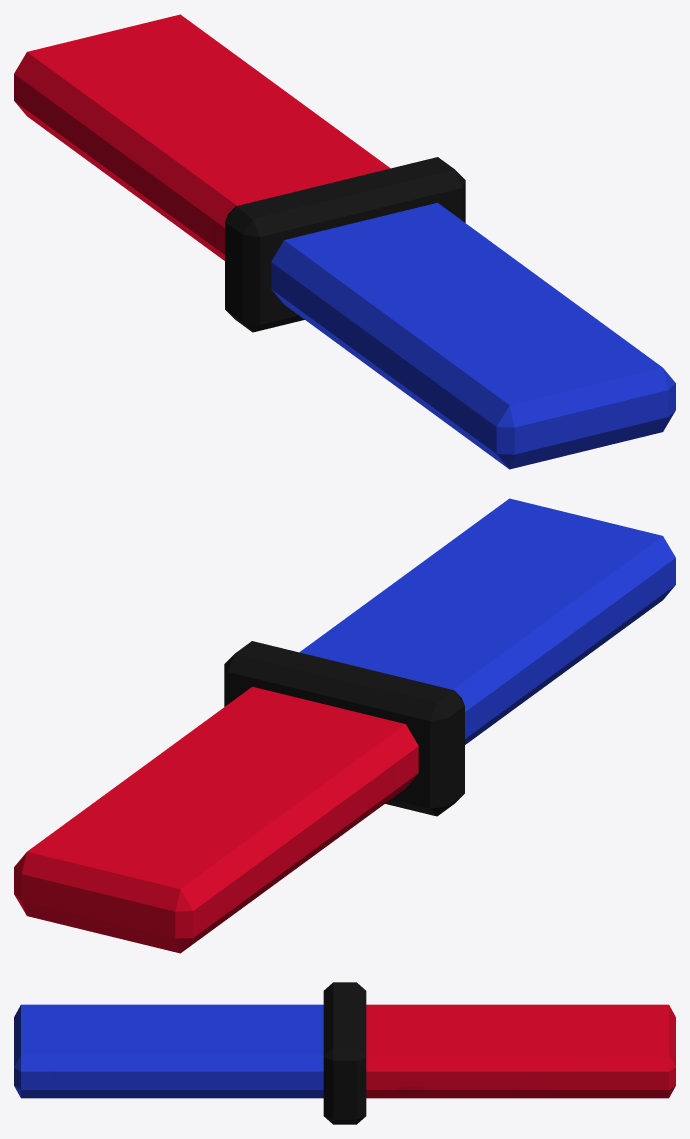
Rendered from PoliceTop.fbx.
3 renders of one model, top to bottom at view 1: azimuth 30°, elevation 25°; view 2: azimuth 150°, elevation 25°; view 3: azimuth 270°, elevation 25°, orthographic. The views are drawn at different scales.
Parts seen in each view (by area): view 1: Police; view 2: Police; view 3: Police.
Boxes of the visible parts, x1,y1,x2,y2 form: Police: [14, 14, 675, 469]; Police: [14, 498, 675, 953]; Police: [14, 982, 675, 1124].
Bounding box in the file's own units: 15.52 × 7.54 × 59.34.
